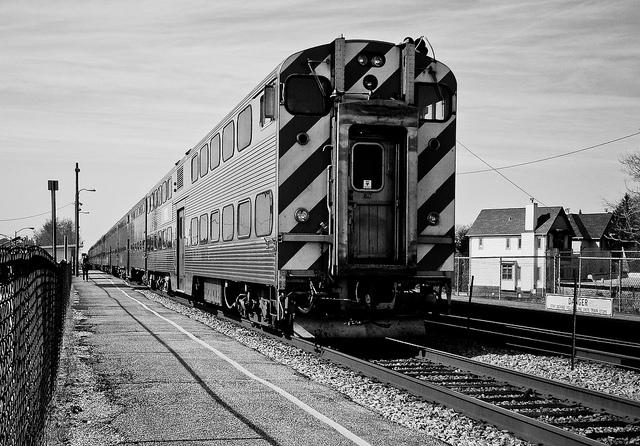Train: (88, 36, 457, 341)
